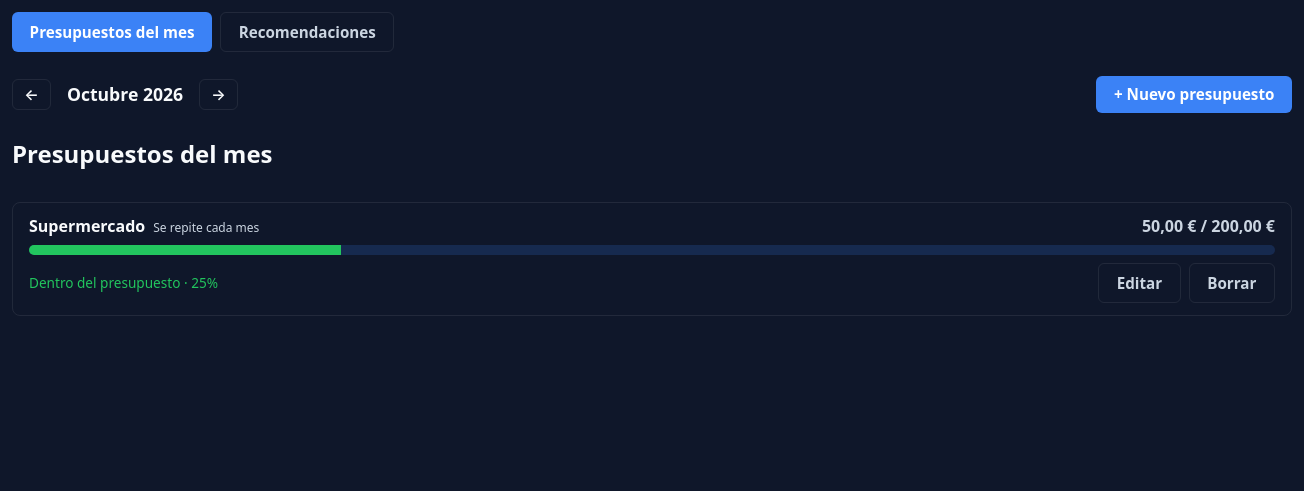
Test case: BudgetsPage › muestra el formulario en un mes futuro sin presupuestos
Check: the text "Supermercado" is shown, box [29,215,145,237]
Click the button named "siguiente" at (219,94), box [199,79,238,110]
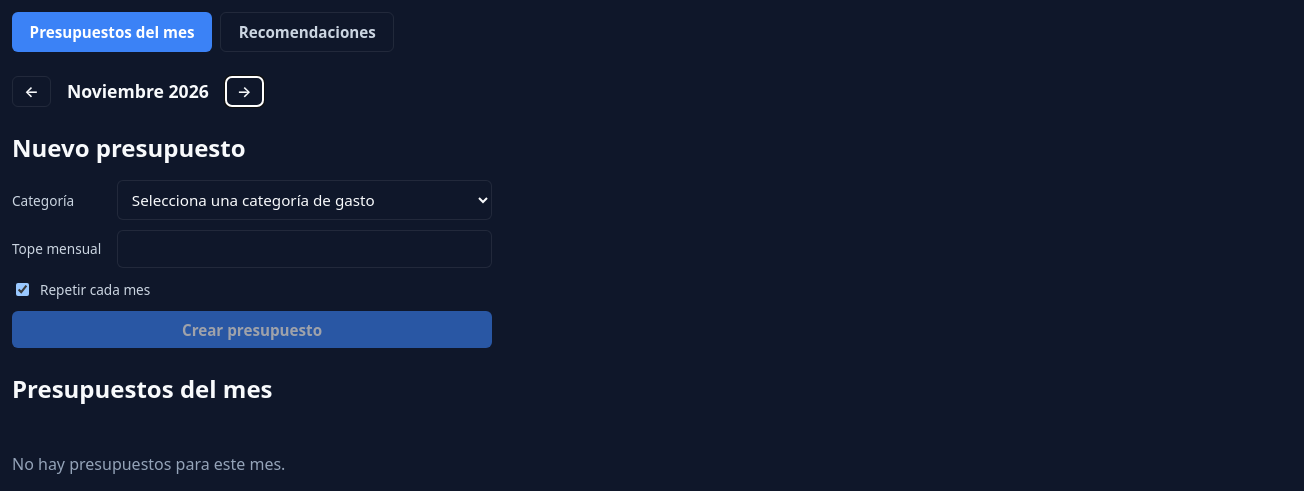
Check: the button "+ Nuevo presupuesto" is gone
